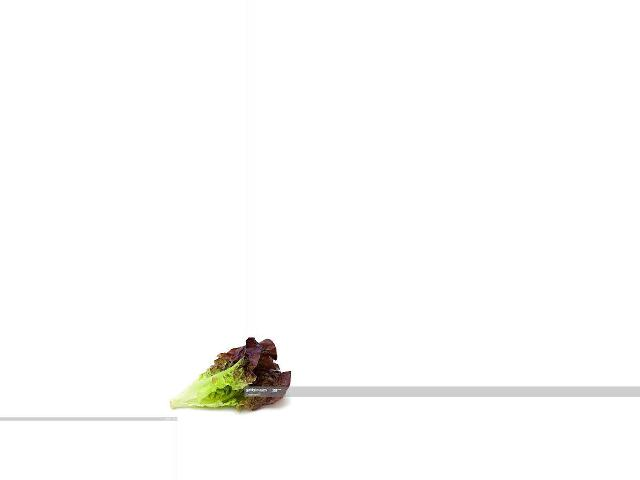lettuce: (165, 336, 293, 416)
